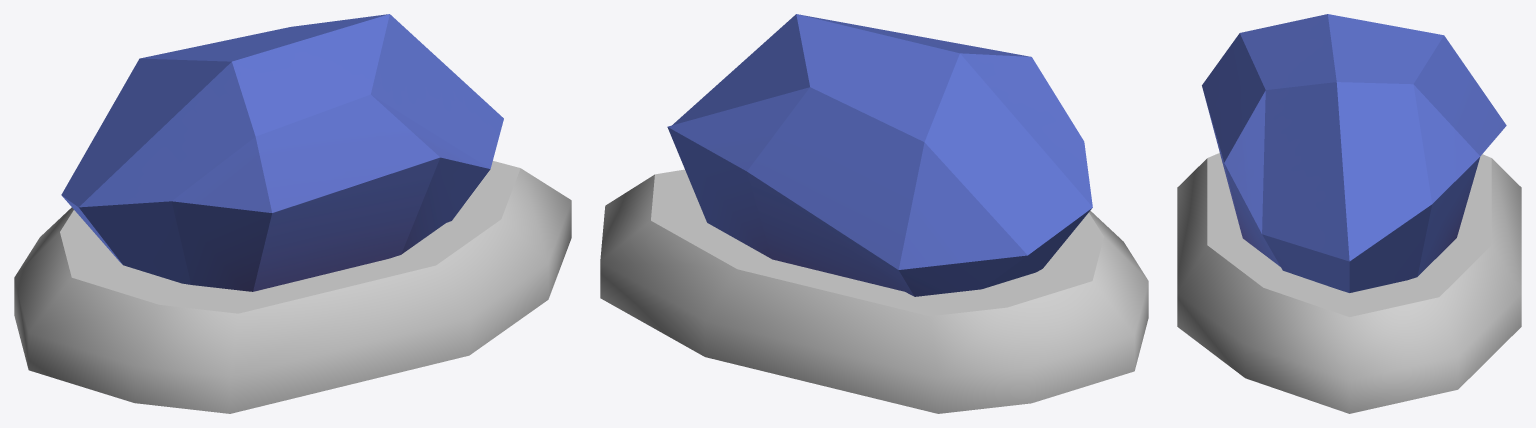
File: Sunken Tomb Sconce.fbx
3 views of the same model, side by side, from view 1: azimuth 30°, elevation 25°; view 2: azimuth 150°, elevation 25°; view 3: azimuth 270°, elevation 25° (orthographic). The views are drawn at different scales.
Parts seen in each view (by area): view 1: Wall Sconce; view 2: Wall Sconce; view 3: Wall Sconce.
Boxes of the visible parts, x1,y1,x2,y2 form: Wall Sconce: [14, 14, 571, 413]; Wall Sconce: [600, 14, 1148, 413]; Wall Sconce: [1177, 14, 1521, 413].
Bounding box in the file's own units: 473 × 229 × 287.
